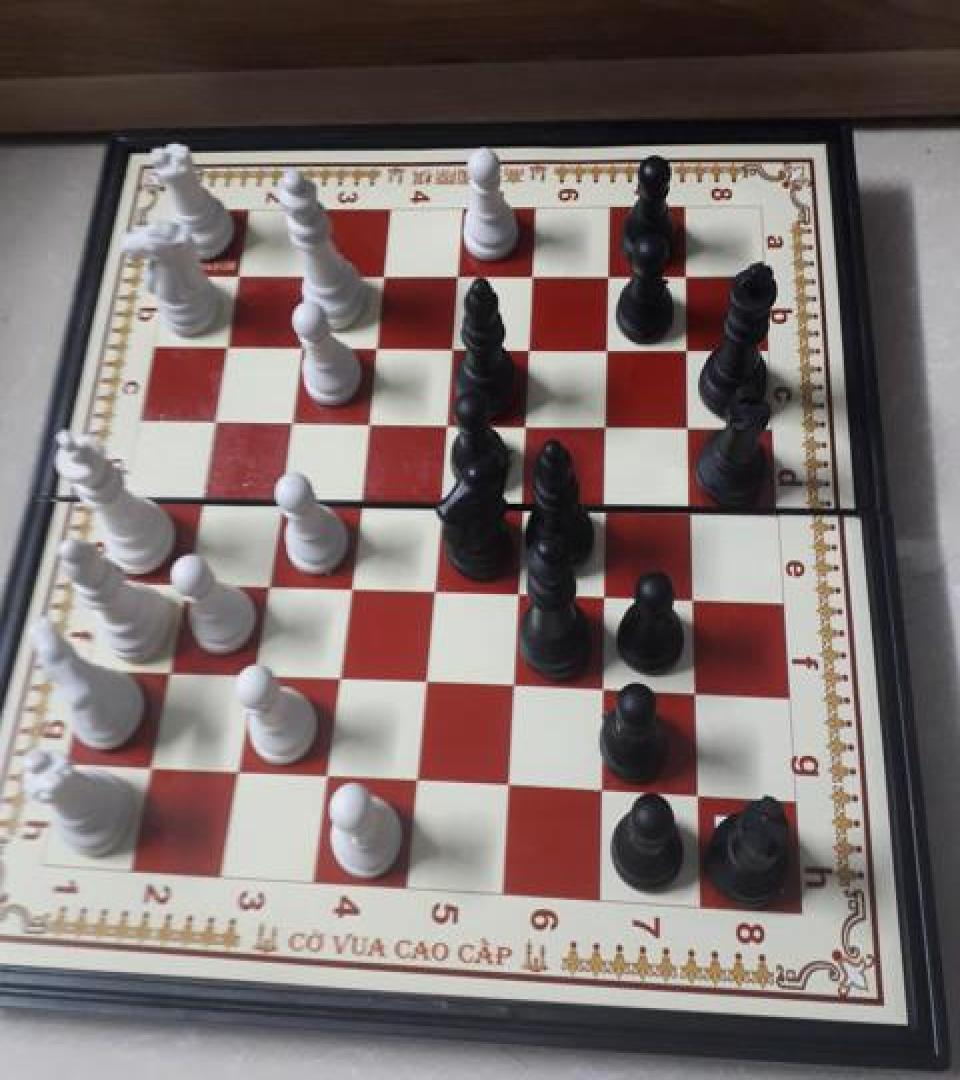xcorner: (500, 571, 532, 608), (406, 660, 438, 697), (586, 768, 618, 805), (670, 258, 702, 294), (591, 258, 623, 294), (514, 258, 546, 294), (439, 258, 471, 294), (364, 258, 396, 294), (290, 258, 322, 294), (217, 258, 249, 294), (671, 330, 703, 366), (356, 328, 388, 364), (280, 328, 312, 364), (205, 326, 237, 362), (673, 406, 705, 442), (590, 405, 622, 441), (508, 404, 540, 440), (427, 403, 459, 439), (347, 402, 379, 438), (269, 400, 301, 436), (191, 400, 223, 436), (675, 488, 707, 524), (589, 486, 621, 522), (504, 485, 536, 521), (420, 482, 452, 518), (338, 482, 370, 518), (257, 479, 289, 515), (177, 478, 209, 514), (677, 576, 709, 612), (588, 574, 620, 610), (413, 569, 445, 605), (328, 566, 360, 602), (244, 564, 276, 600), (162, 562, 194, 598), (680, 672, 712, 708), (587, 667, 619, 703), (496, 664, 528, 700), (318, 658, 350, 694), (231, 655, 263, 691), (146, 652, 178, 688), (682, 773, 714, 809), (491, 764, 523, 800), (398, 760, 430, 796), (306, 756, 338, 792), (216, 752, 248, 788), (128, 747, 160, 783), (591, 329, 623, 364), (511, 329, 543, 364), (433, 329, 465, 364)
